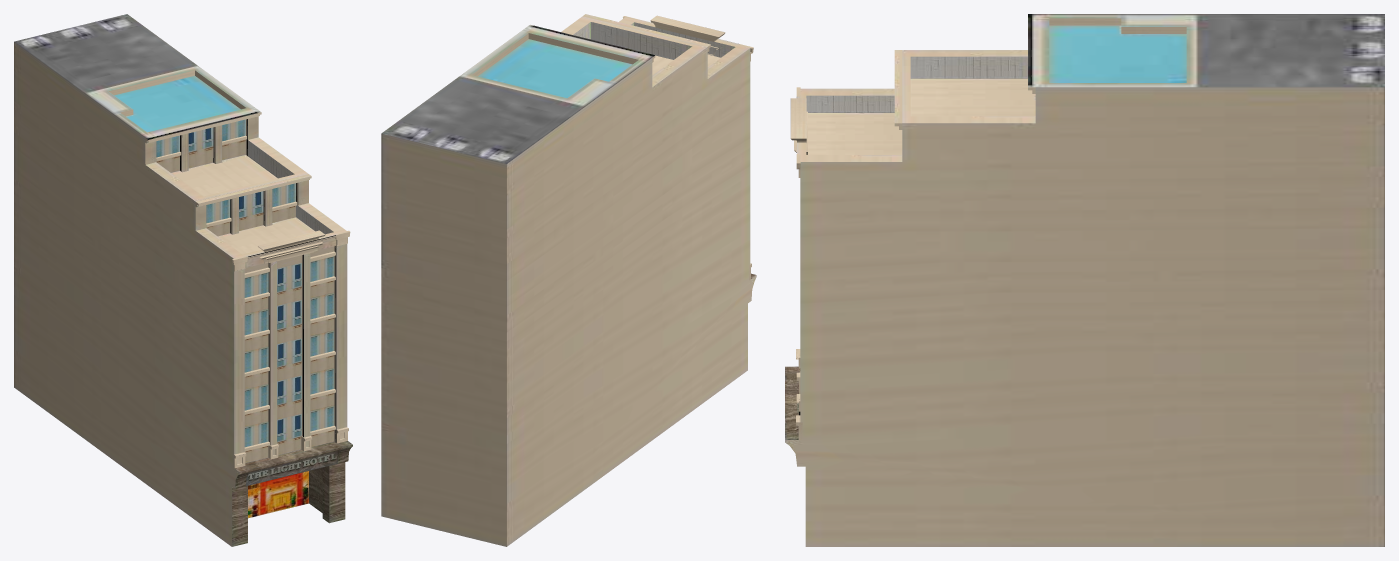
The picture shows the model from 3 angles, left to right: view 1: azimuth 30°, elevation 25°; view 2: azimuth 150°, elevation 25°; view 3: azimuth 270°, elevation 25°; orthographic projection. The views are drawn at different scales.
Visible parts, largest first — view 1: 5f8d58f0797102214f9de2c3; view 2: 5f8d58f0797102214f9de2c3; view 3: 5f8d58f0797102214f9de2c3.
Part boxes in pixels (x1=…): 5f8d58f0797102214f9de2c3: x1=14, y1=14, x2=352, y2=546; 5f8d58f0797102214f9de2c3: x1=381, y1=14, x2=756, y2=546; 5f8d58f0797102214f9de2c3: x1=785, y1=14, x2=1384, y2=546.
Bounding box in the file's own units: 10.84 × 30.64 × 36.25.
Materials: 1 (1 with a texture image).
